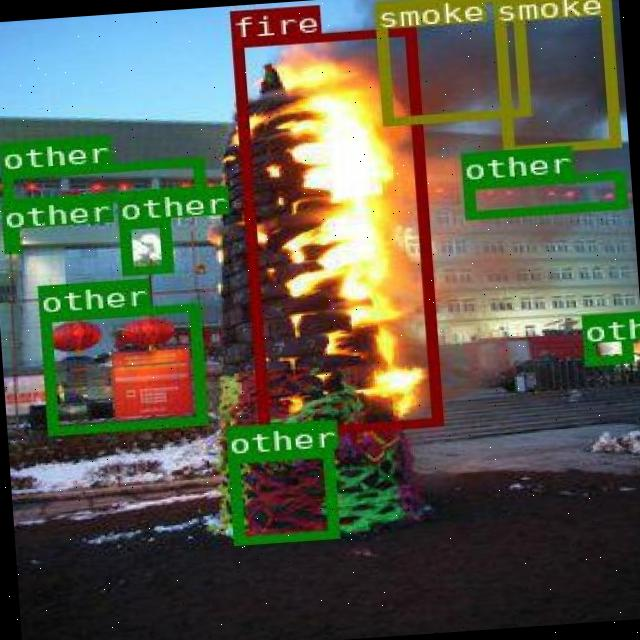fire: (230, 27, 440, 436)
smoke: (490, 0, 618, 154), (372, 0, 528, 123)
